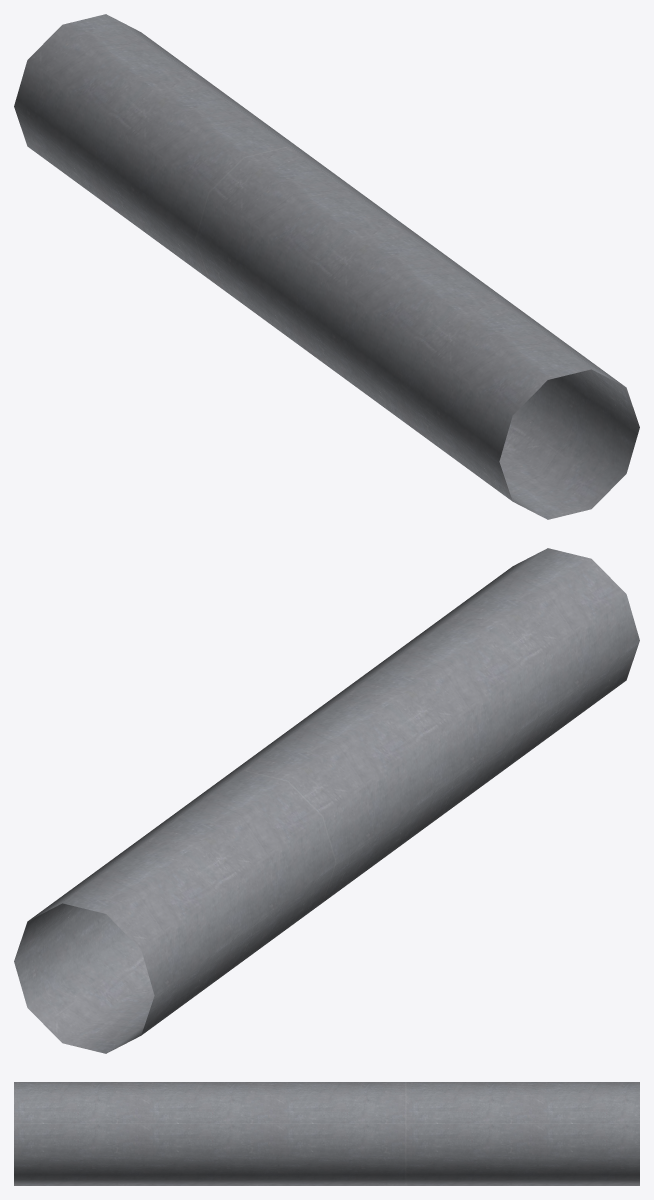
File: p_med_no_cap.FBX
3 renders of one model, top to bottom at view 1: azimuth 30°, elevation 25°; view 2: azimuth 150°, elevation 25°; view 3: azimuth 270°, elevation 25°, orthographic. The views are drawn at different scales.
Visible parts, largest first — view 1: Cylinder015; view 2: Cylinder015; view 3: Cylinder015.
Boxes of the visible parts, x1,y1,x2,y2 form: Cylinder015: (14,14,639,519); Cylinder015: (14,548,639,1053); Cylinder015: (14,1082,639,1185).
Bounding box in the file's own units: 21.4 × 20.35 × 128.
Materials: 1 (1 with a texture image).
